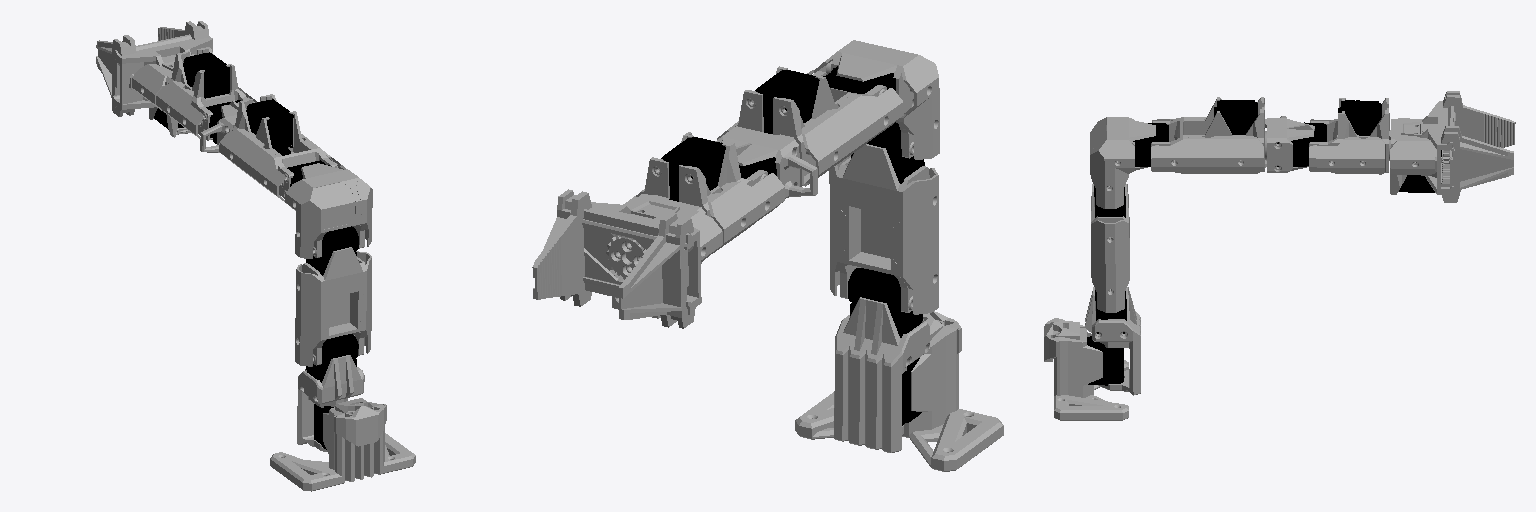
The robot description file, URDF, robot "Elrobot":
<?xml version="1.0" ?>
<robot name="Elrobot" >
  <material name="silver">
    <color rgba="0.700 0.700 0.700 1.000"/>
  </material>
  <material name="ST3215_1_1">
    <color rgba="0.00 0.00 0.00 1.000"/>
  </material>
  <material name="ST3215_2_1">
    <color rgba="0.00 0.00 0.00 1.000"/>
  </material>
  <material name="ST3215_3_1">
    <color rgba="0.00 0.00 0.00 1.000"/>
  </material>
  <material name="ST3215_4_1">
    <color rgba="0.00 0.00 0.00 1.000"/>
  </material>
  <material name="ST3215_5_1">
    <color rgba="0.00 0.00 0.00 1.000"/>
  </material>
  <material name="ST3215_6_1">
    <color rgba="0.00 0.00 0.00 1.000"/>
  </material>
  <material name="ST3215_7_1">
    <color rgba="0.00 0.00 0.00 1.000"/>
  </material>
  <material name="ST3215_8_1">
    <color rgba="0.00 0.00 0.00 1.000"/>
  </material>
  <link name="base_link">
    <inertial>
      <origin xyz="4.1532032114359136e-10 0.013084111185471562 0.019551044495005637" rpy="0 0 0"/>
      <mass value="0.06831242050694149"/>
      <inertia ixx="3.6e-05" iyy="5.9e-05" izz="5.1e-05" ixy="0.0" iyz="8e-06" ixz="-0.0"/>
    </inertial>
    <visual>
      <origin xyz="0 0 0" rpy="0 0 0"/>
      <geometry>
        <mesh filename="assets/base_link.stl" scale="0.001 0.001 0.001"/>
      </geometry>
      <material name="silver"/>
    </visual>
    <collision>
      <origin xyz="0 0 0" rpy="0 0 0"/>
      <geometry>
        <mesh filename="assets/base_link.stl" scale="0.001 0.001 0.001"/>
      </geometry>
    </collision>
  </link>
  <link name="ST3215_1_v1_1">
    <inertial>
      <origin xyz="4.076346987608891e-06 0.022690161600370684 -0.0014235772611572647" rpy="0 0 0"/>
      <mass value="0.03190666159632515"/>
      <inertia ixx="8e-06" iyy="4e-06" izz="7e-06" ixy="0.0" iyz="-0.0" ixz="0.0"/>
    </inertial>
    <visual>
      <origin xyz="-0.0 -0.007585 -0.0315" rpy="0 0 0"/>
      <geometry>
        <mesh filename="assets/ST3215_1_v1_1.stl" scale="0.001 0.001 0.001"/>
      </geometry>
      <material name="ST3215_1_1"/>
    </visual>
    <collision>
      <origin xyz="-0.0 -0.007585 -0.0315" rpy="0 0 0"/>
      <geometry>
        <mesh filename="assets/ST3215_1_v1_1.stl" scale="0.001 0.001 0.001"/>
      </geometry>
    </collision>
  </link>
  <link name="Joint_01_1">
    <inertial>
      <origin xyz="0.00019293358229791917 0.01053544085767251 -0.002903406181002266" rpy="0 0 0"/>
      <mass value="0.036024842090469696"/>
      <inertia ixx="2e-05" iyy="2e-05" izz="1e-05" ixy="0.0" iyz="4e-06" ixz="-0.0"/>
    </inertial>
    <visual>
      <origin xyz="-0.0 -0.042489 -0.049005" rpy="0 0 0"/>
      <geometry>
        <mesh filename="assets/Joint_01_1.stl" scale="0.001 0.001 0.001"/>
      </geometry>
      <material name="silver"/>
    </visual>
    <collision>
      <origin xyz="-0.0 -0.042489 -0.049005" rpy="0 0 0"/>
      <geometry>
        <mesh filename="assets/Joint_01_1.stl" scale="0.001 0.001 0.001"/>
      </geometry>
    </collision>
  </link>
  <link name="ST3215_2_v1_1">
    <inertial>
      <origin xyz="-0.0014235768458915805 -0.00019407288276004214 0.02268943356342234" rpy="0 0 0"/>
      <mass value="0.03190666159632515"/>
      <inertia ixx="7e-06" iyy="8e-06" izz="4e-06" ixy="0.0" iyz="0.0" ixz="-0.0"/>
    </inertial>
    <visual>
      <origin xyz="-0.000625 -0.042431 -0.055705" rpy="0 0 0"/>
      <geometry>
        <mesh filename="assets/ST3215_2_v1_1.stl" scale="0.001 0.001 0.001"/>
      </geometry>
      <material name="ST3215_2_1"/>
    </visual>
    <collision>
      <origin xyz="-0.000625 -0.042431 -0.055705" rpy="0 0 0"/>
      <geometry>
        <mesh filename="assets/ST3215_2_v1_1.stl" scale="0.001 0.001 0.001"/>
      </geometry>
    </collision>
  </link>
  <link name="Joint_02_1">
    <inertial>
      <origin xyz="0.020187292657891796 -0.0003607149418271213 0.04048886553547183" rpy="0 0 0"/>
      <mass value="0.04313419527395414"/>
      <inertia ixx="2.4e-05" iyy="3.4e-05" izz="1.7e-05" ixy="-0.0" iyz="0.0" ixz="0.0"/>
    </inertial>
    <visual>
      <origin xyz="0.019668 -0.042123 -0.090938" rpy="0 0 0"/>
      <geometry>
        <mesh filename="assets/Joint_02_1.stl" scale="0.001 0.001 0.001"/>
      </geometry>
      <material name="silver"/>
    </visual>
    <collision>
      <origin xyz="0.019668 -0.042123 -0.090938" rpy="0 0 0"/>
      <geometry>
        <mesh filename="assets/Joint_02_1.stl" scale="0.001 0.001 0.001"/>
      </geometry>
    </collision>
  </link>
  <link name="ST3215_3_v1_1">
    <inertial>
      <origin xyz="-0.0012258665484379326 -0.00019383890721715036 0.02270059947453923" rpy="0 0 0"/>
      <mass value="0.03190666159632515"/>
      <inertia ixx="7e-06" iyy="8e-06" izz="4e-06" ixy="0.0" iyz="0.0" ixz="-0.0"/>
    </inertial>
    <visual>
      <origin xyz="-0.000195 -0.041636 -0.146765" rpy="0 0 0"/>
      <geometry>
        <mesh filename="assets/ST3215_3_v1_1.stl" scale="0.001 0.001 0.001"/>
      </geometry>
      <material name="ST3215_3_1"/>
    </visual>
    <collision>
      <origin xyz="-0.000195 -0.041636 -0.146765" rpy="0 0 0"/>
      <geometry>
        <mesh filename="assets/ST3215_3_v1_1.stl" scale="0.001 0.001 0.001"/>
      </geometry>
    </collision>
  </link>
  <link name="Joint_03_v1_1">
    <inertial>
      <origin xyz="0.021383489206350224 0.0025973738142313213 0.028573272567347596" rpy="0 0 0"/>
      <mass value="0.03705485612134295"/>
      <inertia ixx="1.1e-05" iyy="1.8e-05" izz="1.5e-05" ixy="0.0" iyz="-1e-06" ixz="-0.0"/>
    </inertial>
    <visual>
      <origin xyz="0.01979 -0.041327 -0.182173" rpy="0 0 0"/>
      <geometry>
        <mesh filename="assets/Joint_03_v1_1.stl" scale="0.001 0.001 0.001"/>
      </geometry>
      <material name="silver"/>
    </visual>
    <collision>
      <origin xyz="0.01979 -0.041327 -0.182173" rpy="0 0 0"/>
      <geometry>
        <mesh filename="assets/Joint_03_v1_1.stl" scale="0.001 0.001 0.001"/>
      </geometry>
    </collision>
  </link>
  <link name="ST3215_4_v1_1">
    <inertial>
      <origin xyz="-0.0014236012890871546 0.022688801414757966 0.00021876985314867037" rpy="0 0 0"/>
      <mass value="0.03190666159632515"/>
      <inertia ixx="7e-06" iyy="4e-06" izz="8e-06" ixy="-0.0" iyz="-0.0" ixz="0.0"/>
    </inertial>
    <visual>
      <origin xyz="-0.001473 -0.04326 -0.218576" rpy="0 0 0"/>
      <geometry>
        <mesh filename="assets/ST3215_4_v1_1.stl" scale="0.001 0.001 0.001"/>
      </geometry>
      <material name="ST3215_4_1"/>
    </visual>
    <collision>
      <origin xyz="-0.001473 -0.04326 -0.218576" rpy="0 0 0"/>
      <geometry>
        <mesh filename="assets/ST3215_4_v1_1.stl" scale="0.001 0.001 0.001"/>
      </geometry>
    </collision>
  </link>
  <link name="Joint_04_v1_1">
    <inertial>
      <origin xyz="0.02041469568271767 0.04634775018812741 0.0004733773672222219" rpy="0 0 0"/>
      <mass value="0.04910540016805011"/>
      <inertia ixx="3.7e-05" iyy="2.1e-05" izz="4.7e-05" ixy="-0.0" iyz="-1e-06" ixz="0.0"/>
    </inertial>
    <visual>
      <origin xyz="0.018817 -0.078489 -0.219238" rpy="0 0 0"/>
      <geometry>
        <mesh filename="assets/Joint_04_v1_1.stl" scale="0.001 0.001 0.001"/>
      </geometry>
      <material name="silver"/>
    </visual>
    <collision>
      <origin xyz="0.018817 -0.078489 -0.219238" rpy="0 0 0"/>
      <geometry>
        <mesh filename="assets/Joint_04_v1_1.stl" scale="0.001 0.001 0.001"/>
      </geometry>
    </collision>
  </link>
  <link name="ST3215_5_v1_1">
    <inertial>
      <origin xyz="0.00038301708111886123 -0.001621005306100043 0.022431224025462493" rpy="0 0 0"/>
      <mass value="0.03190666159632515"/>
      <inertia ixx="8e-06" iyy="7e-06" izz="4e-06" ixy="-0.0" iyz="-0.0" ixz="-0.0"/>
    </inertial>
    <visual>
      <origin xyz="-0.001574 -0.144152 -0.209203" rpy="0 0 0"/>
      <geometry>
        <mesh filename="assets/ST3215_5_v1_1.stl" scale="0.001 0.001 0.001"/>
      </geometry>
      <material name="ST3215_5_1"/>
    </visual>
    <collision>
      <origin xyz="-0.001574 -0.144152 -0.209203" rpy="0 0 0"/>
      <geometry>
        <mesh filename="assets/ST3215_5_v1_1.stl" scale="0.001 0.001 0.001"/>
      </geometry>
    </collision>
  </link>
  <link name="Joint_05_v1_1">
    <inertial>
      <origin xyz="-0.0014511731912585726 0.014886171505002432 0.00023918947669937518" rpy="0 0 0"/>
      <mass value="0.015030395597527186"/>
      <inertia ixx="3e-06" iyy="5e-06" izz="5e-06" ixy="0.0" iyz="-0.0" ixz="0.0"/>
    </inertial>
    <visual>
      <origin xyz="-0.001897 -0.161352 -0.219254" rpy="0 0 0"/>
      <geometry>
        <mesh filename="assets/Joint_05_v1_1.stl" scale="0.001 0.001 0.001"/>
      </geometry>
      <material name="silver"/>
    </visual>
    <collision>
      <origin xyz="-0.001897 -0.161352 -0.219254" rpy="0 0 0"/>
      <geometry>
        <mesh filename="assets/Joint_05_v1_1.stl" scale="0.001 0.001 0.001"/>
      </geometry>
    </collision>
  </link>
  <link name="ST3215_6_v1_1">
    <inertial>
      <origin xyz="-0.0012292541520895308 0.02270120751988408 1.7775252667578956e-05" rpy="0 0 0"/>
      <mass value="0.03190666159632515"/>
      <inertia ixx="7e-06" iyy="4e-06" izz="8e-06" ixy="-0.0" iyz="-0.0" ixz="0.0"/>
    </inertial>
    <visual>
      <origin xyz="-0.001962 -0.168852 -0.219253" rpy="0 0 0"/>
      <geometry>
        <mesh filename="assets/ST3215_6_v1_1.stl" scale="0.001 0.001 0.001"/>
      </geometry>
      <material name="ST3215_6_1"/>
    </visual>
    <collision>
      <origin xyz="-0.001962 -0.168852 -0.219253" rpy="0 0 0"/>
      <geometry>
        <mesh filename="assets/ST3215_6_v1_1.stl" scale="0.001 0.001 0.001"/>
      </geometry>
    </collision>
  </link>
  <link name="Joint_06_v1_1">
    <inertial>
      <origin xyz="0.02043403340818753 0.03197650673728944 0.0003564813588719795" rpy="0 0 0"/>
      <mass value="0.03727709058376948"/>
      <inertia ixx="1.6e-05" iyy="1.6e-05" izz="2.2e-05" ixy="0.0" iyz="-0.0" ixz="0.0"/>
    </inertial>
    <visual>
      <origin xyz="0.018026 -0.204259 -0.219604" rpy="0 0 0"/>
      <geometry>
        <mesh filename="assets/Joint_06_v1_1.stl" scale="0.001 0.001 0.001"/>
      </geometry>
      <material name="silver"/>
    </visual>
    <collision>
      <origin xyz="0.018026 -0.204259 -0.219604" rpy="0 0 0"/>
      <geometry>
        <mesh filename="assets/Joint_06_v1_1.stl" scale="0.001 0.001 0.001"/>
      </geometry>
    </collision>
  </link>
  <link name="ST3215_7_v1_1">
    <inertial>
      <origin xyz="0.00037315403427122225 -0.0014257132266914385 0.022445026183495337" rpy="0 0 0"/>
      <mass value="0.03190666159632515"/>
      <inertia ixx="8e-06" iyy="7e-06" izz="4e-06" ixy="-0.0" iyz="-0.0" ixz="-0.0"/>
    </inertial>
    <visual>
      <origin xyz="-0.002452 -0.242282 -0.208993" rpy="0 0 0"/>
      <geometry>
        <mesh filename="assets/ST3215_7_v1_1.stl" scale="0.001 0.001 0.001"/>
      </geometry>
      <material name="ST3215_7_1"/>
    </visual>
    <collision>
      <origin xyz="-0.002452 -0.242282 -0.208993" rpy="0 0 0"/>
      <geometry>
        <mesh filename="assets/ST3215_7_v1_1.stl" scale="0.001 0.001 0.001"/>
      </geometry>
    </collision>
  </link>
  <link name="Gripper_Base_v1_1">
    <inertial>
      <origin xyz="0.0005605249651253262 0.03191999437655846 -0.0005946931738743111" rpy="0 0 0"/>
      <mass value="0.046895455343164964"/>
      <inertia ixx="2.2e-05" iyy="2.9e-05" izz="3.1e-05" ixy="0.0" iyz="-0.0" ixz="0.0"/>
    </inertial>
    <visual>
      <origin xyz="-0.002925 -0.259566 -0.218892" rpy="0 0 0"/>
      <geometry>
        <mesh filename="assets/Gripper_Base_v1_1.stl" scale="0.001 0.001 0.001"/>
      </geometry>
      <material name="silver"/>
    </visual>
    <collision>
      <origin xyz="-0.002925 -0.259566 -0.218892" rpy="0 0 0"/>
      <geometry>
        <mesh filename="assets/Gripper_Base_v1_1.stl" scale="0.001 0.001 0.001"/>
      </geometry>
    </collision>
  </link>
  <link name="ST3215_8_v1_1">
    <inertial>
      <origin xyz="-0.000545923413501848 -0.018926109262623947 -0.01220636642566475" rpy="0 0 0"/>
      <mass value="0.03190666159632515"/>
      <inertia ixx="8e-06" iyy="7e-06" izz="4e-06" ixy="-0.0" iyz="-0.0" ixz="-0.0"/>
    </inertial>
    <visual>
      <origin xyz="-0.003701 -0.304808 -0.218483" rpy="0 0 0"/>
      <geometry>
        <mesh filename="assets/ST3215_8_v1_1.stl" scale="0.001 0.001 0.001"/>
      </geometry>
      <material name="ST3215_8_1"/>
    </visual>
    <collision>
      <origin xyz="-0.003701 -0.304808 -0.218483" rpy="0 0 0"/>
      <geometry>
        <mesh filename="assets/ST3215_8_v1_1.stl" scale="0.001 0.001 0.001"/>
      </geometry>
    </collision>
  </link>
  <link name="Gripper_Gear_v1_1">
    <inertial>
      <origin xyz="6.406692942733175e-05 0.0037564011470480607 -3.383421367433859e-05" rpy="0 0 0"/>
      <mass value="0.0024790841259162795"/>
      <inertia ixx="0.0" iyy="0.0" izz="0.0" ixy="0.0" iyz="-0.0" ixz="-0.0"/>
    </inertial>
    <visual>
      <origin xyz="-0.003701 -0.304808 -0.218483" rpy="0 0 0"/>
      <geometry>
        <mesh filename="assets/Gripper_Gear_v1_1.stl" scale="0.001 0.001 0.001"/>
      </geometry>
      <material name="silver"/>
    </visual>
    <collision>
      <origin xyz="-0.003701 -0.304808 -0.218483" rpy="0 0 0"/>
      <geometry>
        <mesh filename="assets/Gripper_Gear_v1_1.stl" scale="0.001 0.001 0.001"/>
      </geometry>
    </collision>
  </link>
  <link name="Gripper_Jaw_02_v1_1">
    <inertial>
      <origin xyz="-0.3386809002581644 0.2625921677727179 -0.030316532660763146" rpy="0 0 0"/>
      <mass value="0.012492175356778453"/>
      <inertia ixx="5e-06" iyy="4e-06" izz="3e-06" ixy="0.0" iyz="0.0" ixz="-0.0"/>
    </inertial>
    <visual>
      <origin xyz="-0.314659 -0.059918 -0.251741" rpy="0 0 0"/>
      <geometry>
        <mesh filename="assets/Gripper_Jaw_02_v1_1.stl" scale="0.001 0.001 0.001"/>
      </geometry>
      <material name="silver"/>
    </visual>
    <collision>
      <origin xyz="-0.314659 -0.059918 -0.251741" rpy="0 0 0"/>
      <geometry>
        <mesh filename="assets/Gripper_Jaw_02_v1_1.stl" scale="0.001 0.001 0.001"/>
      </geometry>
    </collision>
  </link>
  <link name="Gripper_Jaw_01_v1_1">
    <inertial>
      <origin xyz="-0.27944183977334625 0.30531580207092573 0.046279678752686765" rpy="0 0 0"/>
      <mass value="0.012492175356778453"/>
      <inertia ixx="5e-06" iyy="4e-06" izz="3e-06" ixy="-0.0" iyz="-0.0" ixz="-0.0"/>
    </inertial>
    <visual>
      <origin xyz="-0.311498 -0.016199 -0.171401" rpy="0 0 0"/>
      <geometry>
        <mesh filename="assets/Gripper_Jaw_01_v1_1.stl" scale="0.001 0.001 0.001"/>
      </geometry>
      <material name="silver"/>
    </visual>
    <collision>
      <origin xyz="-0.311498 -0.016199 -0.171401" rpy="0 0 0"/>
      <geometry>
        <mesh filename="assets/Gripper_Jaw_01_v1_1.stl" scale="0.001 0.001 0.001"/>
      </geometry>
    </collision>
  </link>
  <joint name="Rigid 1" type="fixed">
    <origin xyz="0.0 0.007585 0.0315" rpy="0 0 0"/>
    <parent link="base_link"/>
    <child link="ST3215_1_v1_1"/>
  </joint>
  <joint name="rev_motor_01" type="revolute">
    <origin xyz="0.0 0.034904 0.017505" rpy="0 0 0"/>
    <parent link="ST3215_1_v1_1"/>
    <child link="Joint_01_1"/>
    <axis xyz="0.0 -0.008727 0.999962"/>
    <limit upper="1.5509" lower="-1.5509" effort="2.94" velocity="4.71"/>
  </joint>
  <joint name="Rigid 3" type="fixed">
    <origin xyz="0.000625 -5.8e-05 0.0067" rpy="0 0 0"/>
    <parent link="Joint_01_1"/>
    <child link="ST3215_2_v1_1"/>
  </joint>
  <joint name="rev_motor_02" type="revolute">
    <origin xyz="-0.020293 -0.000308 0.035233" rpy="0 0 0"/>
    <parent link="ST3215_2_v1_1"/>
    <child link="Joint_02_1"/>
    <axis xyz="-0.999962 -7.6e-05 0.008726"/>
    <limit upper="1.6122" lower="-1.6122" effort="2.94" velocity="4.71"/>
  </joint>
  <joint name="Rigid 7" type="fixed">
    <origin xyz="0.019863 -0.000487 0.055827" rpy="0 0 0"/>
    <parent link="Joint_02_1"/>
    <child link="ST3215_3_v1_1"/>
  </joint>
  <joint name="rev_motor_03" type="revolute">
    <origin xyz="-0.019985 -0.000309 0.035408" rpy="0 0 0"/>
    <parent link="ST3215_3_v1_1"/>
    <child link="Joint_03_v1_1"/>
    <axis xyz="-0.999848 -0.000152 0.017452"/>
    <limit upper="1.7610" lower="-1.7610" effort="2.94" velocity="4.71"/>
  </joint>
  <joint name="Rigid 9" type="fixed">
    <origin xyz="0.021263 0.001933 0.036403" rpy="0 0 0"/>
    <parent link="Joint_03_v1_1"/>
    <child link="ST3215_4_v1_1"/>
  </joint>
  <joint name="rev_motor_04" type="revolute">
    <origin xyz="-0.02029 0.035229 0.000662" rpy="0 0 0"/>
    <parent link="ST3215_4_v1_1"/>
    <child link="Joint_04_v1_1"/>
    <axis xyz="-0.99981 0.008574 0.017527"/>
    <limit upper="1.7533" lower="-1.7533" effort="2.94" velocity="4.71"/>
  </joint>
  <joint name="Rigid 11" type="fixed">
    <origin xyz="0.020391 0.065663 -0.010035" rpy="0 0 0"/>
    <parent link="Joint_04_v1_1"/>
    <child link="ST3215_5_v1_1"/>
  </joint>
  <joint name="rev_motor_05" type="revolute">
    <origin xyz="0.000323 0.0172 0.010051" rpy="0 0 0"/>
    <parent link="ST3215_5_v1_1"/>
    <child link="Joint_05_v1_1"/>
    <axis xyz="-0.008573 -0.999963 0.000151"/>
    <limit upper="3.252" lower="-2.62" effort="2.94" velocity="4.71"/>
  </joint>
  <joint name="Rigid 13" type="fixed">
    <origin xyz="6.5e-05 0.0075 -1e-06" rpy="0 0 0"/>
    <parent link="Joint_05_v1_1"/>
    <child link="ST3215_6_v1_1"/>
  </joint>
  <joint name="rev_motor_06" type="revolute">
    <origin xyz="-0.019988 0.035407 0.000351" rpy="0 0 0"/>
    <parent link="ST3215_6_v1_1"/>
    <child link="Joint_06_v1_1"/>
    <axis xyz="-0.999697 0.0173 0.017525"/>
    <limit upper="1.7641" lower="-1.3775" effort="2.94" velocity="4.71"/>
  </joint>
  <joint name="Rigid 15" type="fixed">
    <origin xyz="0.020478 0.038023 -0.010611" rpy="0 0 0"/>
    <parent link="Joint_06_v1_1"/>
    <child link="ST3215_7_v1_1"/>
  </joint>
  <joint name="rev_motor_07" type="revolute">
    <origin xyz="0.000473 0.017284 0.009899" rpy="0 0 0"/>
    <parent link="ST3215_7_v1_1"/>
    <child link="Gripper_Base_v1_1"/>
    <axis xyz="-0.017144 -0.999812 0.009029"/>
    <limit upper="2.7336" lower="-3.2014" effort="2.94" velocity="4.71"/>
  </joint>
  <joint name="Rigid 17" type="fixed">
    <origin xyz="0.000776 0.045242 -0.000409" rpy="0 0 0"/>
    <parent link="Gripper_Base_v1_1"/>
    <child link="ST3215_8_v1_1"/>
  </joint>
<joint name="rev_motor_08" type="revolute">
    <origin xyz="0.0 0.0 0.0" rpy="0 0 0"/>
    <parent link="ST3215_8_v1_1"/>
    <child link="Gripper_Gear_v1_1"/>
    <axis xyz="0.017144 0.999812 -0.009029"/>
    <limit upper="2.2028" lower="0" effort="2.94" velocity="4.71"/>
  </joint>
  <joint name="rev_motor_08_1" type="prismatic">
    <origin xyz="0.311734 -0.199648 0.032849" rpy="0 0 0"/> 
    <parent link="Gripper_Base_v1_1"/>
    <child link="Gripper_Jaw_02_v1_1"/> 
    <axis xyz="-0.999697 0.0173 0.017525"/> 
    <limit upper="0.0" lower="-0.0255" effort="2.94" velocity="4.71"/>
    <mimic joint="rev_motor_08" multiplier="-0.0115" offset="0"/>
  </joint>
  <joint name="rev_motor_08_2" type="prismatic">
    <origin xyz="0.308573 -0.243367 -0.049391" rpy="0 0 0"/>
    <parent link="Gripper_Base_v1_1"/>
    <child link="Gripper_Jaw_01_v1_1"/> 
    <axis xyz="-0.999697 0.0173 0.017525"/> 
    <limit upper="0.0255" lower="0.0" effort="2.94" velocity="4.71"/>
    <mimic joint="rev_motor_08" multiplier="0.0115" offset="0"/>
  </joint>
</robot>

--- Facts derived from the render (not from the file) ---
The picture shows the robot from 3 angles, left to right: view 1: azimuth 30°, elevation 25°; view 2: azimuth 150°, elevation 25°; view 3: azimuth 270°, elevation 25°; orthographic projection.
Robot: Elrobot — 19 links, 18 joints (8 revolute, 2 prismatic, 8 fixed); root link base_link; default pose: every joint at zero.
Visible links, largest first — view 1: Joint_02_1, base_link, Joint_03_v1_1, Joint_04_v1_1, Gripper_Base_v1_1, Joint_06_v1_1, Joint_01_1, ST3215_5_v1_1, ST3215_7_v1_1, Gripper_Jaw_02_v1_1, ST3215_2_v1_1, ST3215_3_v1_1 (+2 smaller); view 2: Joint_02_1, Joint_01_1, base_link, Joint_04_v1_1, Gripper_Base_v1_1, Joint_03_v1_1, Joint_06_v1_1, Gripper_Jaw_02_v1_1, Gripper_Jaw_01_v1_1, Joint_05_v1_1, ST3215_2_v1_1, ST3215_7_v1_1 (+5 smaller); view 3: Joint_04_v1_1, base_link, Gripper_Base_v1_1, Joint_06_v1_1, Joint_03_v1_1, Joint_02_1, Gripper_Jaw_01_v1_1, Joint_01_1, Gripper_Jaw_02_v1_1, Joint_05_v1_1, ST3215_5_v1_1, ST3215_7_v1_1 (+3 smaller).
Link boxes in pixels (x1=…): Joint_02_1: x1=295, y1=247, x2=371, y2=366; base_link: x1=270, y1=398, x2=415, y2=491; Joint_03_v1_1: x1=285, y1=163, x2=372, y2=258; Joint_04_v1_1: x1=219, y1=94, x2=345, y2=201; Gripper_Base_v1_1: x1=113, y1=34, x2=212, y2=137; Joint_06_v1_1: x1=156, y1=47, x2=256, y2=140; Joint_01_1: x1=297, y1=355, x2=364, y2=451; ST3215_5_v1_1: x1=246, y1=99, x2=293, y2=155; ST3215_7_v1_1: x1=183, y1=52, x2=229, y2=98; Gripper_Jaw_02_v1_1: x1=96, y1=35, x2=136, y2=116; ST3215_2_v1_1: x1=306, y1=334, x2=358, y2=382; ST3215_3_v1_1: x1=306, y1=226, x2=358, y2=275; Joint_02_1: x1=829, y1=144, x2=938, y2=314; Joint_01_1: x1=834, y1=297, x2=929, y2=452; base_link: x1=795, y1=311, x2=1003, y2=471; Joint_04_v1_1: x1=717, y1=66, x2=903, y2=186; Gripper_Base_v1_1: x1=582, y1=194, x2=722, y2=318; Joint_03_v1_1: x1=814, y1=40, x2=939, y2=159; Joint_06_v1_1: x1=636, y1=132, x2=784, y2=252; Gripper_Jaw_02_v1_1: x1=610, y1=212, x2=695, y2=328; Gripper_Jaw_01_v1_1: x1=532, y1=189, x2=623, y2=306; Joint_05_v1_1: x1=715, y1=126, x2=817, y2=198; ST3215_2_v1_1: x1=848, y1=268, x2=922, y2=337; ST3215_7_v1_1: x1=661, y1=137, x2=725, y2=201; Joint_04_v1_1: x1=1151, y1=97, x2=1266, y2=173; base_link: x1=1044, y1=318, x2=1128, y2=420; Gripper_Base_v1_1: x1=1389, y1=101, x2=1455, y2=195; Joint_06_v1_1: x1=1309, y1=98, x2=1389, y2=174; Joint_03_v1_1: x1=1090, y1=117, x2=1155, y2=208; Joint_02_1: x1=1091, y1=184, x2=1129, y2=312; Gripper_Jaw_01_v1_1: x1=1441, y1=126, x2=1513, y2=202; Joint_01_1: x1=1085, y1=287, x2=1140, y2=395; Gripper_Jaw_02_v1_1: x1=1443, y1=91, x2=1515, y2=147; Joint_05_v1_1: x1=1265, y1=116, x2=1314, y2=172; ST3215_5_v1_1: x1=1214, y1=100, x2=1257, y2=134; ST3215_7_v1_1: x1=1338, y1=100, x2=1381, y2=135.
Bounding box of the posed robot: 0.1 × 0.3742 × 0.2551 m (x, y, z).
19 mesh visuals loaded from 19 distinct referenced files (19 binary STL).
